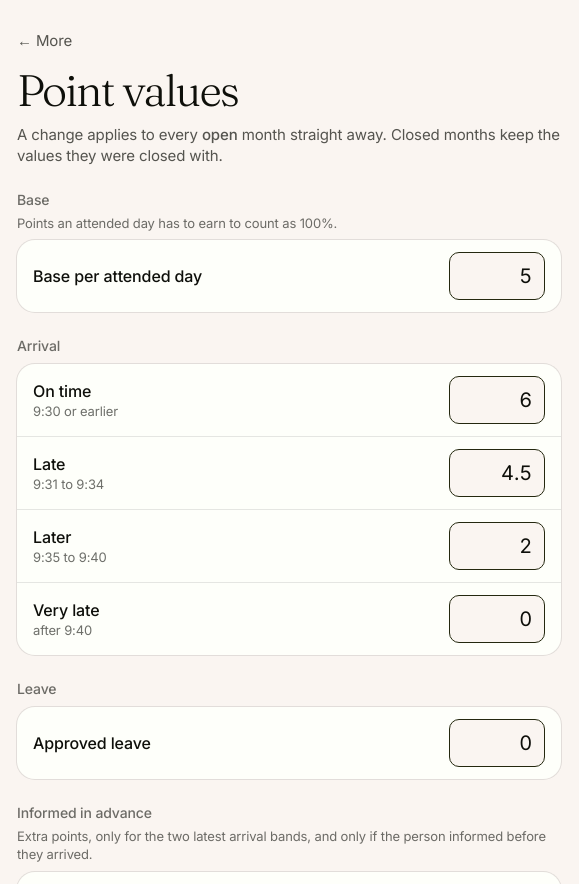
Test: Point values screen › saves every value as numbers after an edit
Clear the field labelled "Very late after 9:40" at (497, 619), box [449,595,545,643]
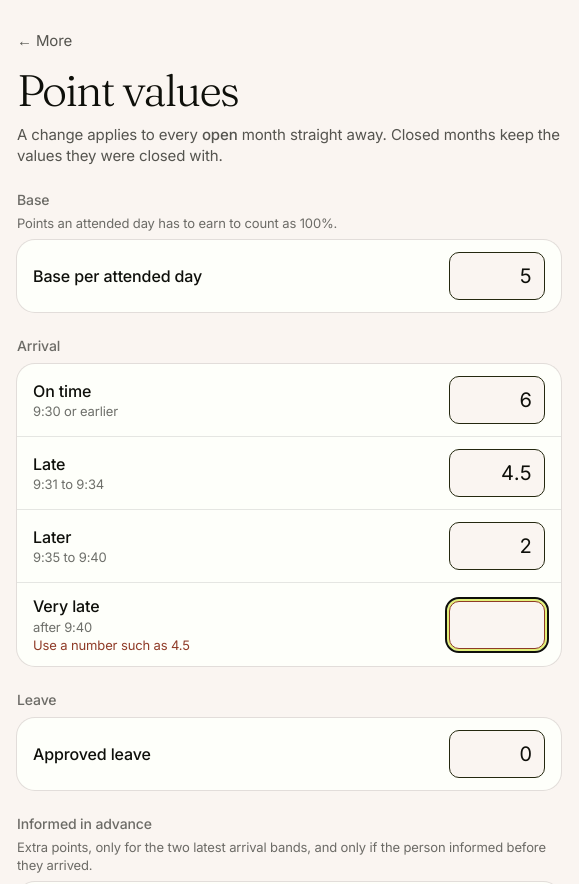
Type "0.5" into the field labelled "Very late after 9:40 Use a number such as 4.5" at (497, 625), box [449,601,545,649]
(page scrolled)
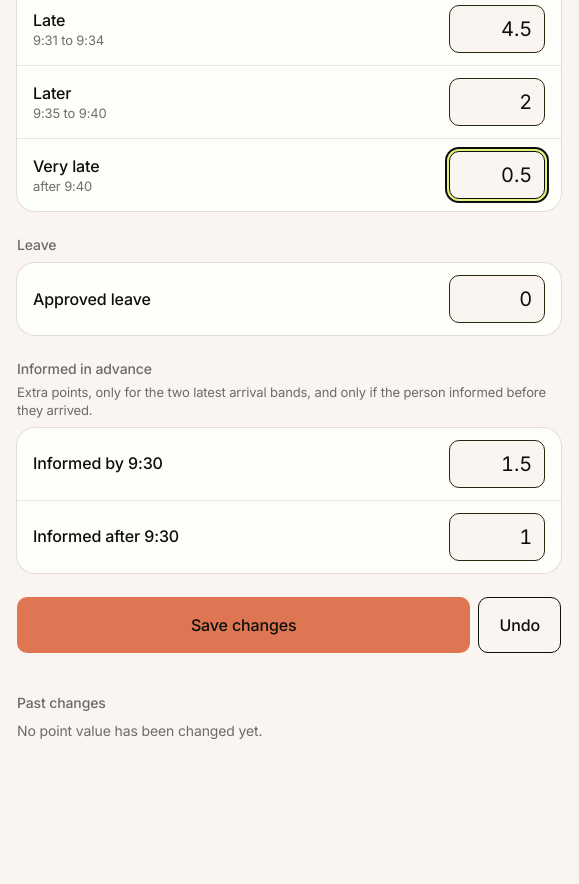
Click the button "Save changes" at (244, 625), box [17,597,470,653]
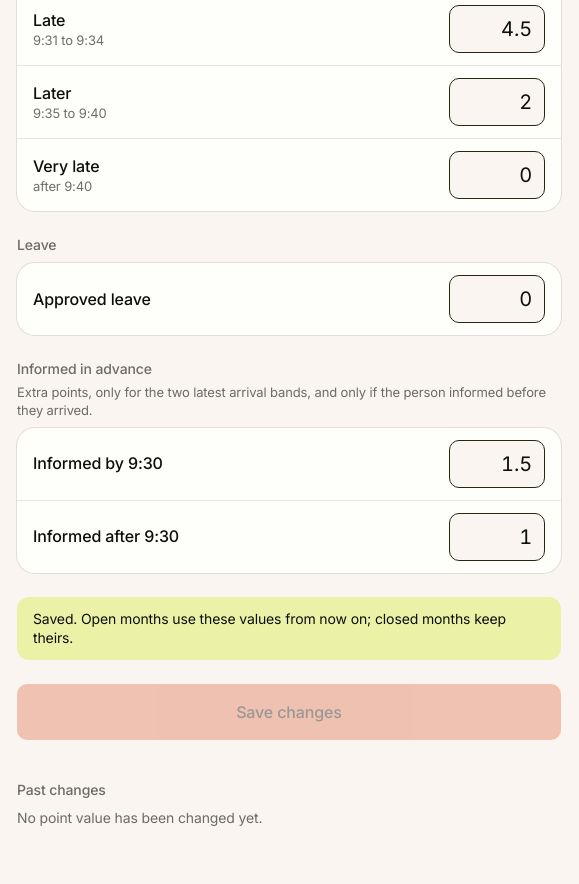
Now the message "Saved. Open months use these values from now on; closed months keep theirs." is shown, box [17,597,561,660]
